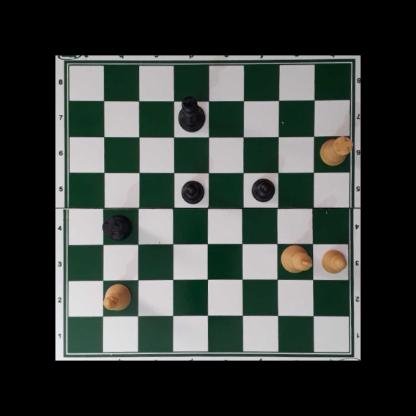black-king: (177, 94, 204, 132)
black-pawn: (179, 179, 204, 204), (251, 176, 275, 202)
black-rook: (101, 213, 132, 240)
white-bishop: (102, 281, 132, 311)
white-king: (279, 245, 312, 273)
white-pawn: (321, 249, 347, 273)
white-rook: (319, 135, 353, 165)
